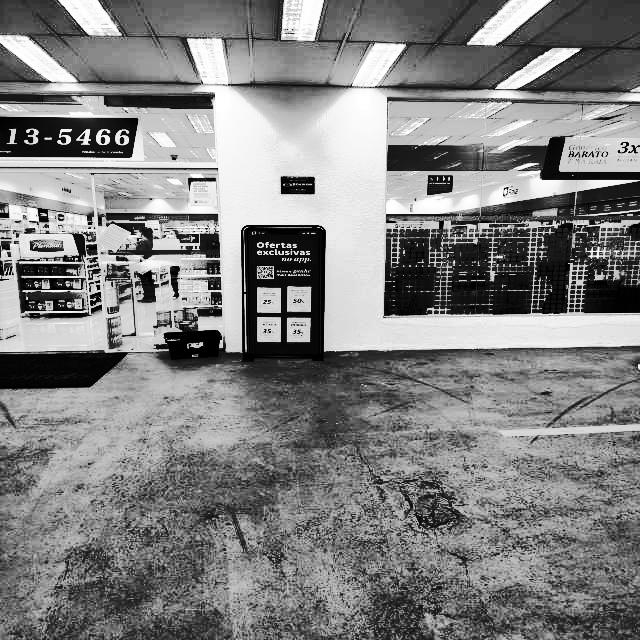qr_code: (258, 267, 273, 279)
